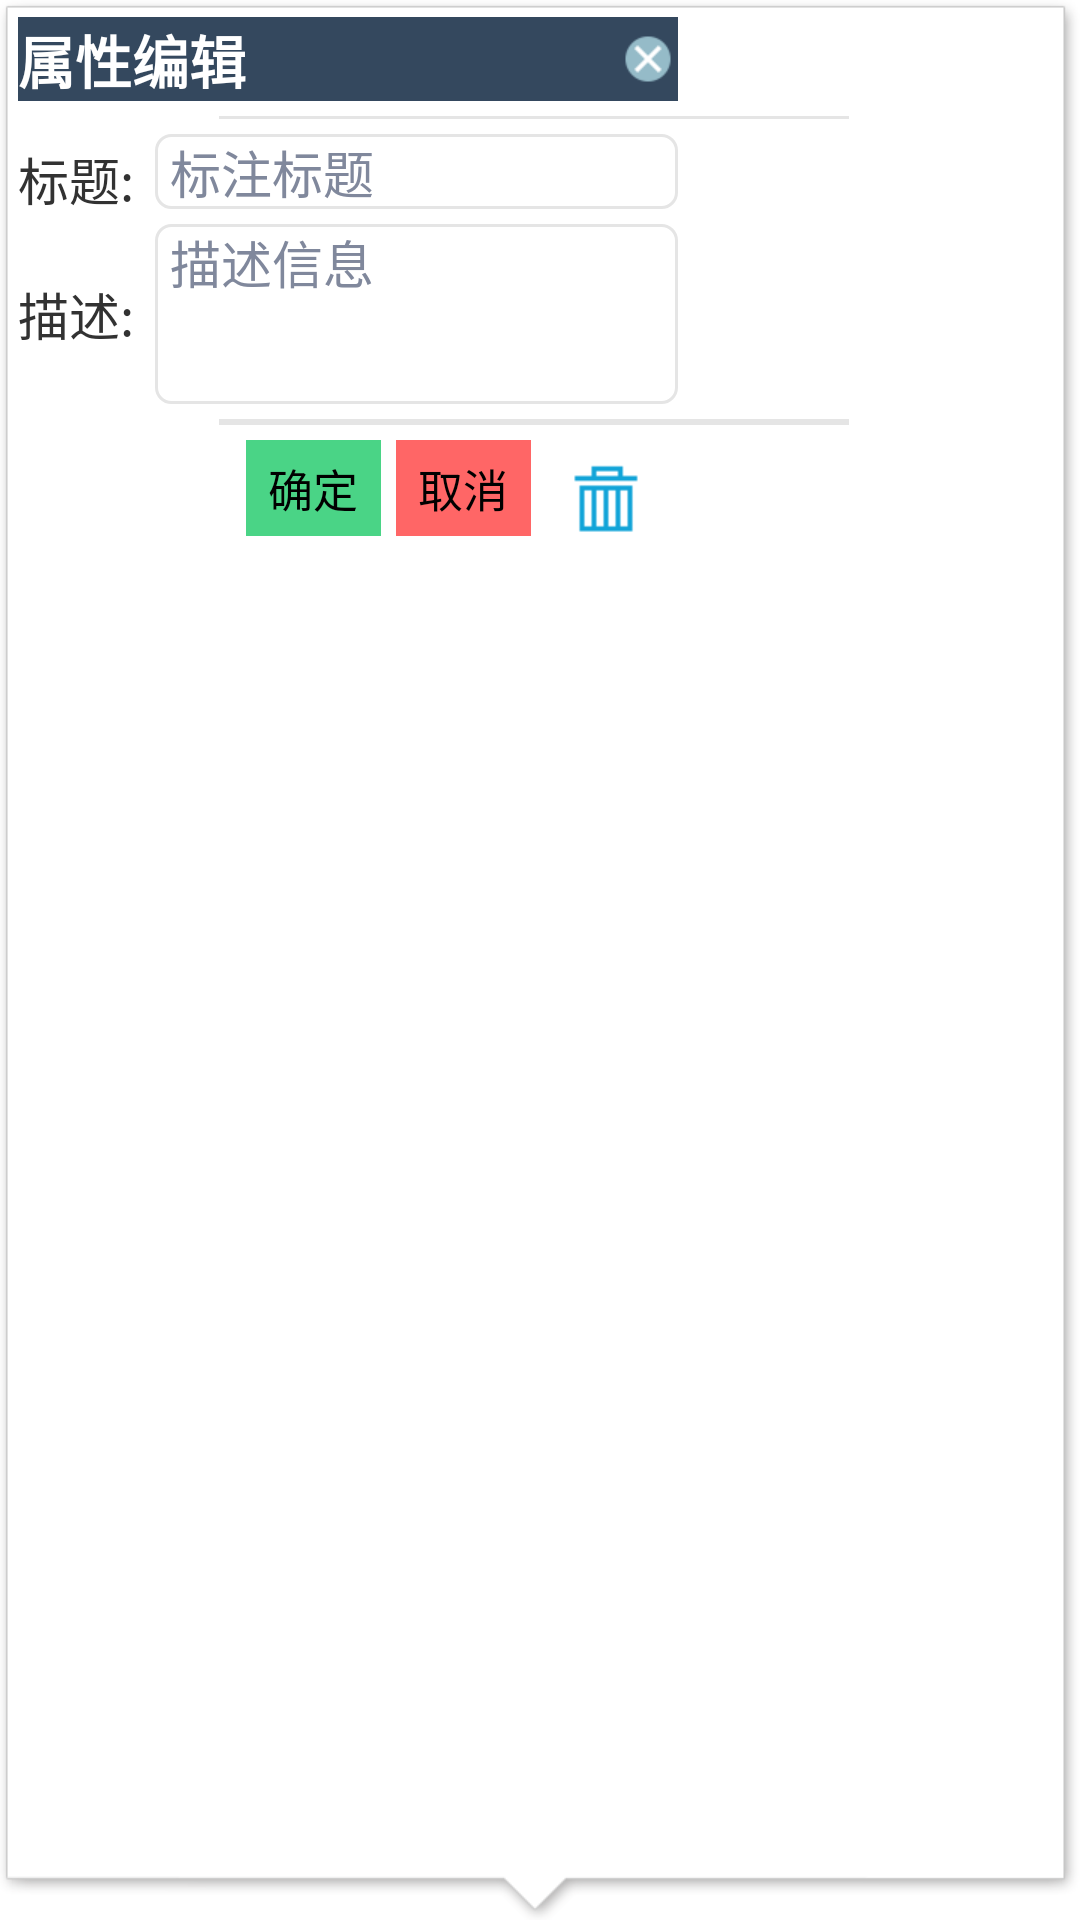

Point at icon controls on the screen. Image size 1080w x 1920h, points as (x=x, y=y).
delete: (x=606, y=498)
search clean: (x=648, y=59)
